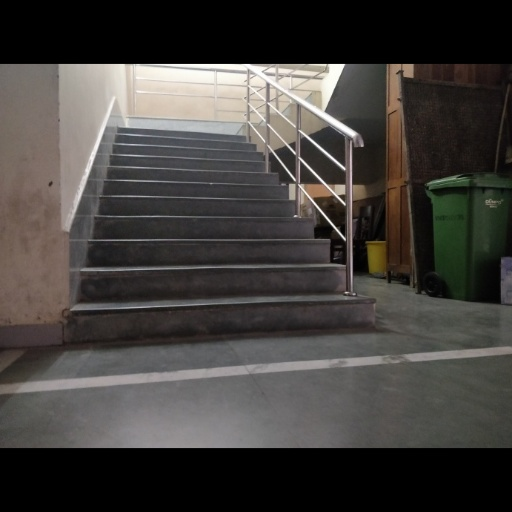Stairs: (68, 128, 375, 342)
